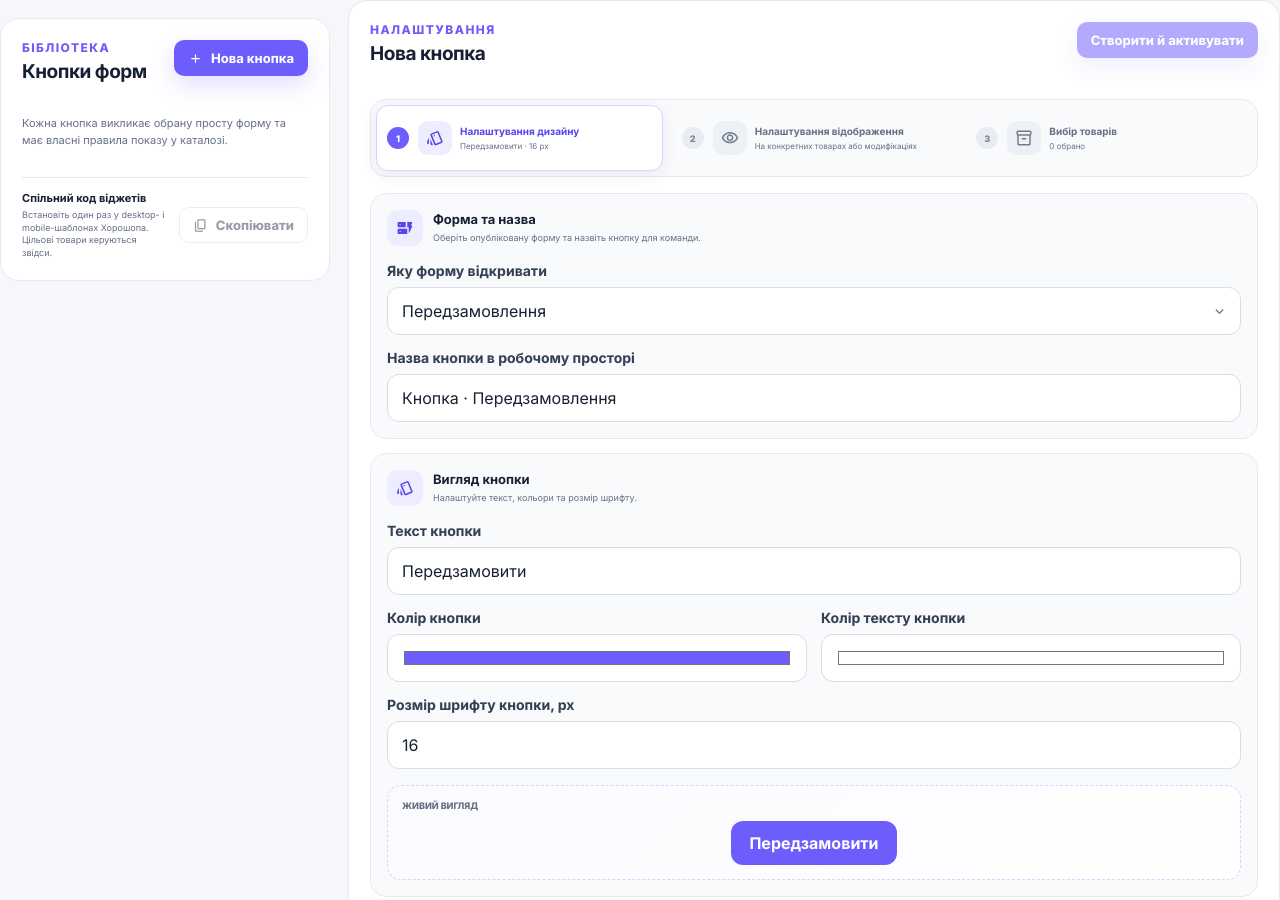
Test: ApplicationFormPlacementEditor product tree › activates a newly created button immediately
Click the tab "3 Вибір товарів 0 обрано". click: (1109, 138)
box: [965,105,1252,171]
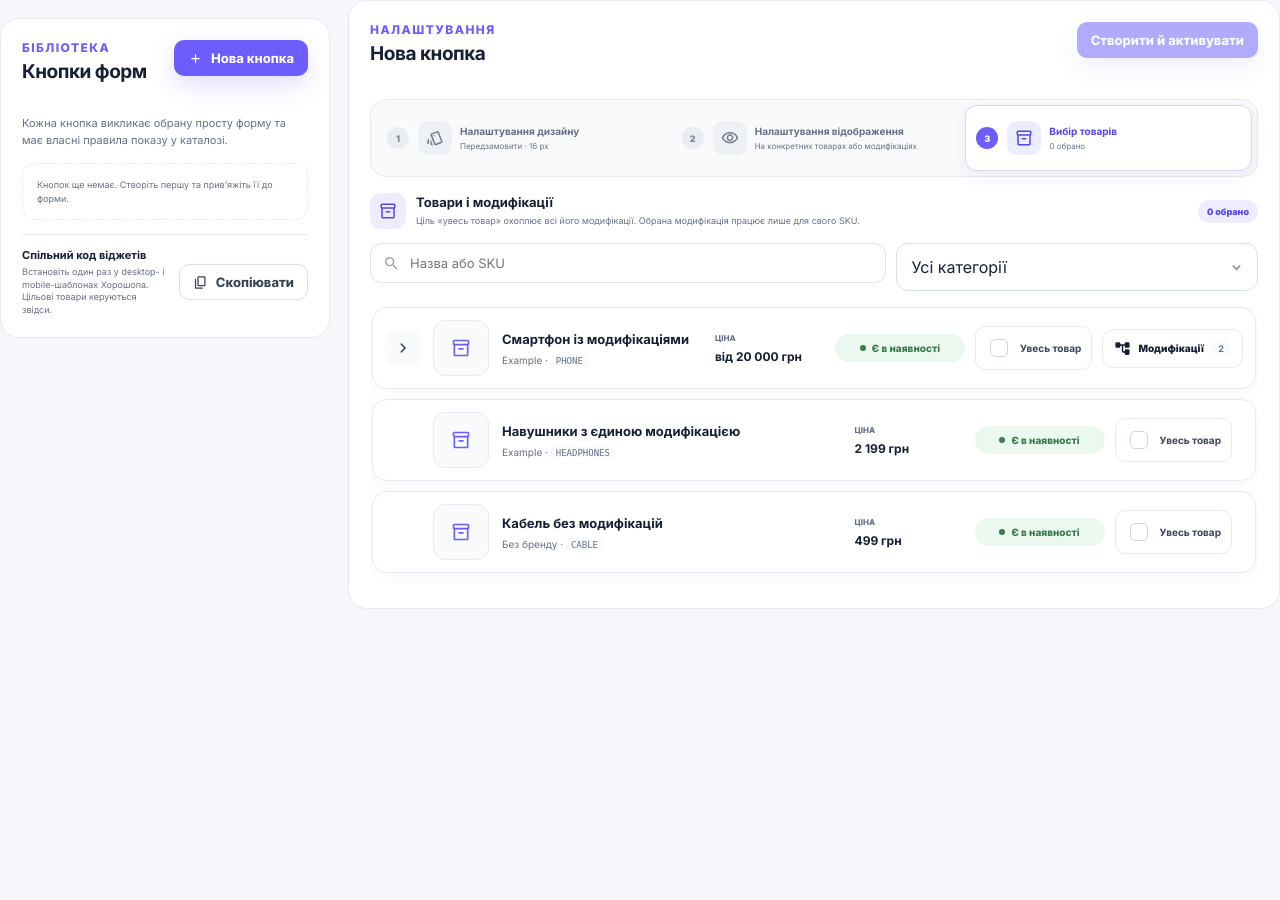
expect the list item "Кабель без модифікацій" is shown: met, box [502,515,663,531]
Click the checkbox labelled "Увесь товар" in the row of "499 грн". click: (1138, 532)
box: [1130,523,1148,541]
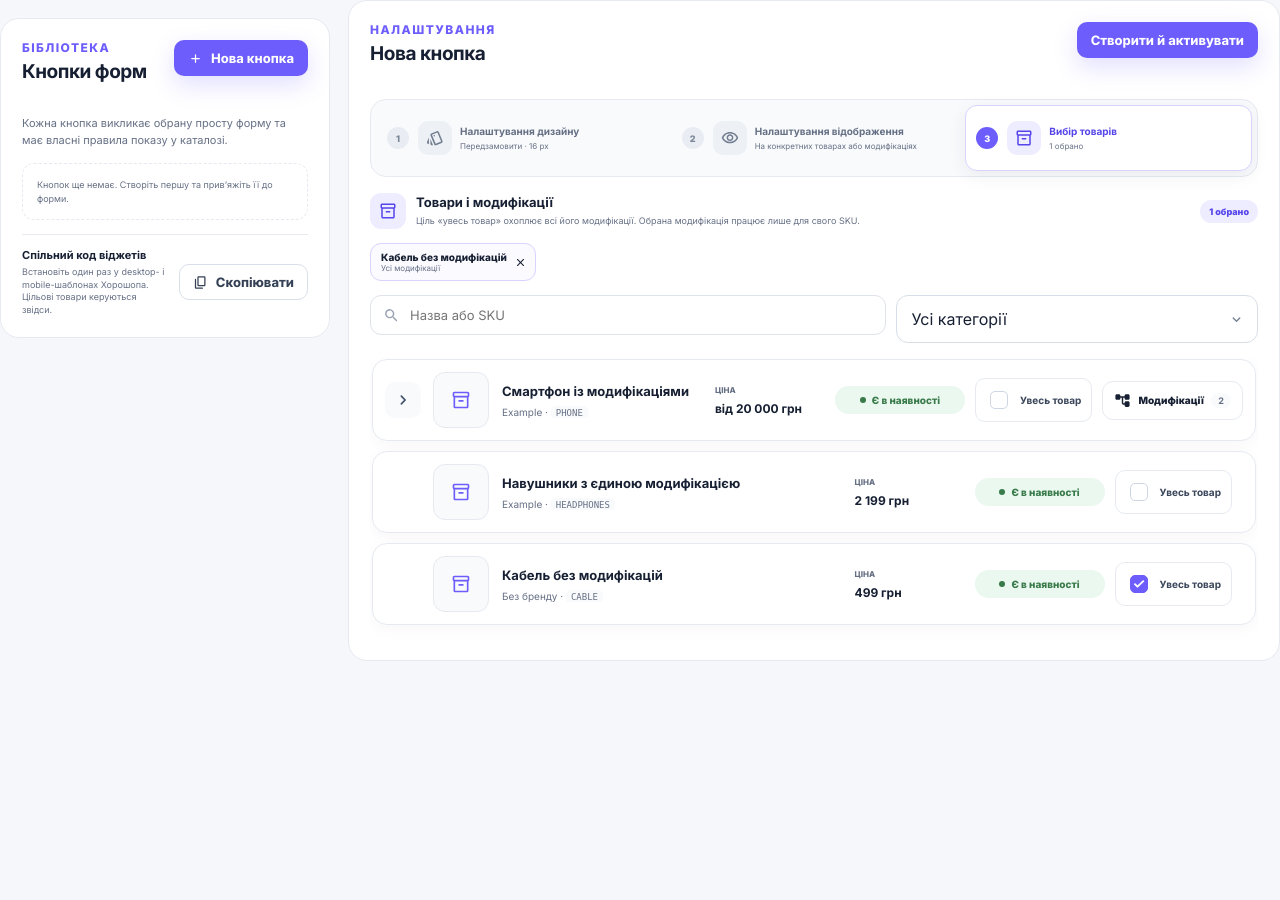
expect the button "Створити й активувати" is enabled: met
Click the button "Створити й активувати". click: (1167, 40)
box: [1077,22,1258,58]
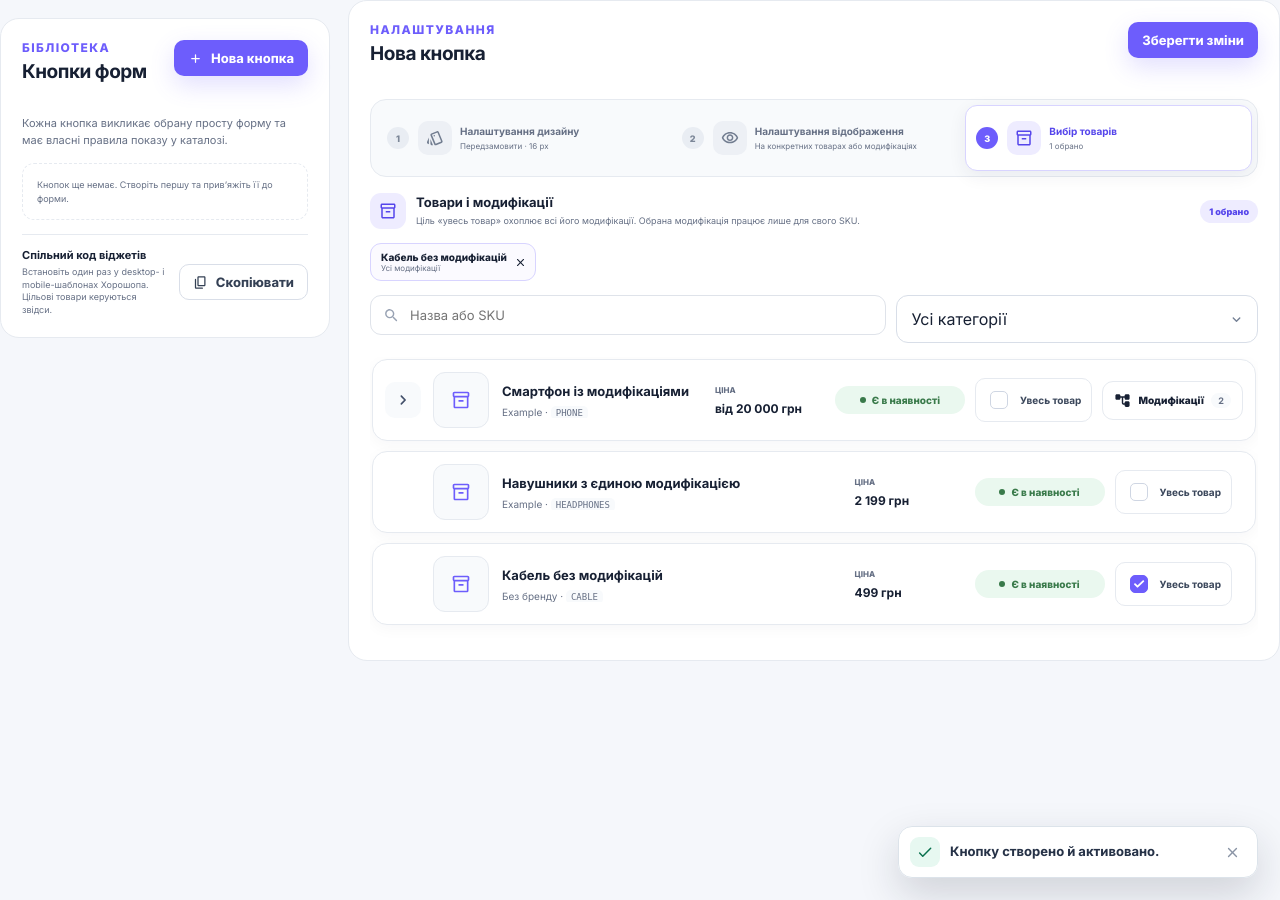
expect the text "Кнопку створено й активовано." is shown: met, box [950,843,1160,859]
